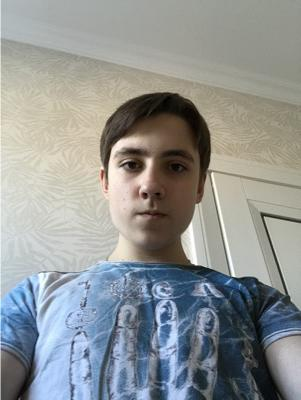without_mask: (108, 141, 199, 250)
